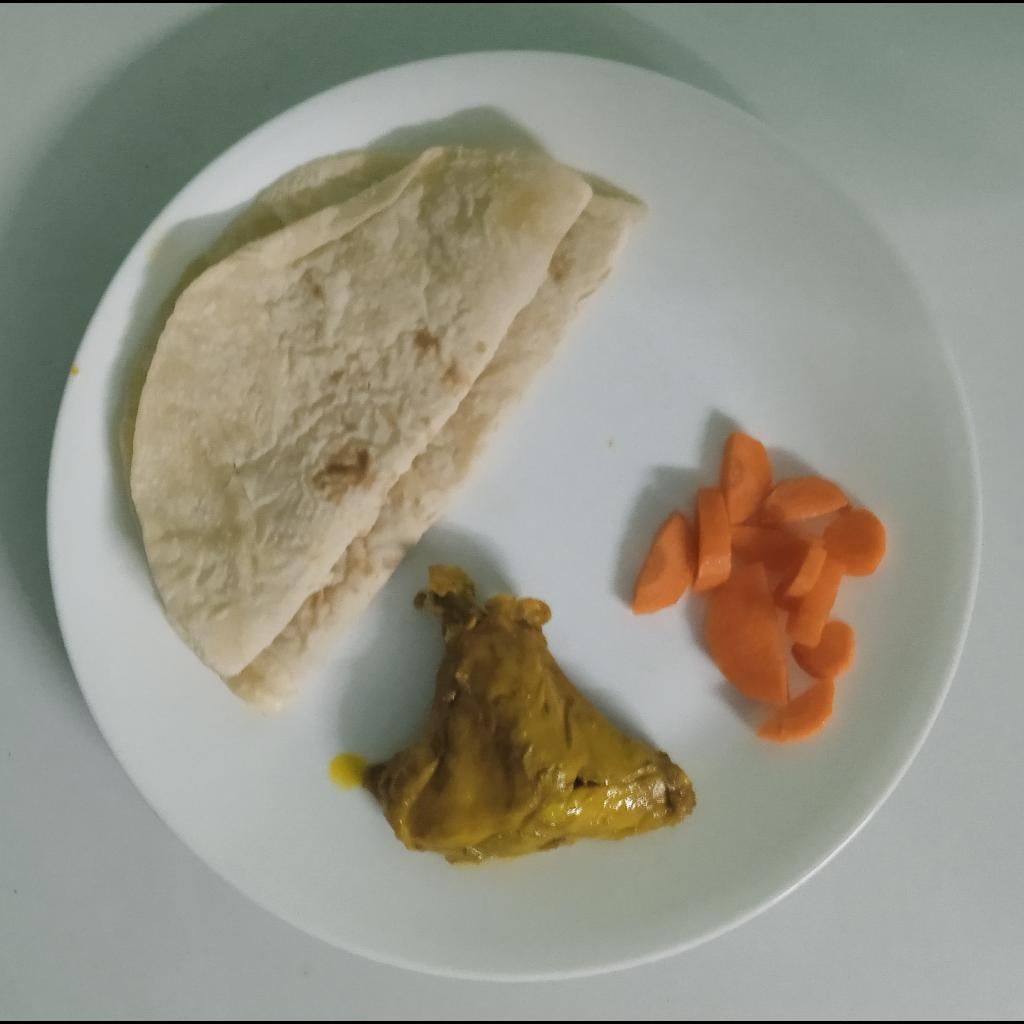carrot: (630, 431, 888, 746)
chicken: (353, 566, 702, 867)
ruti: (122, 140, 646, 723)
